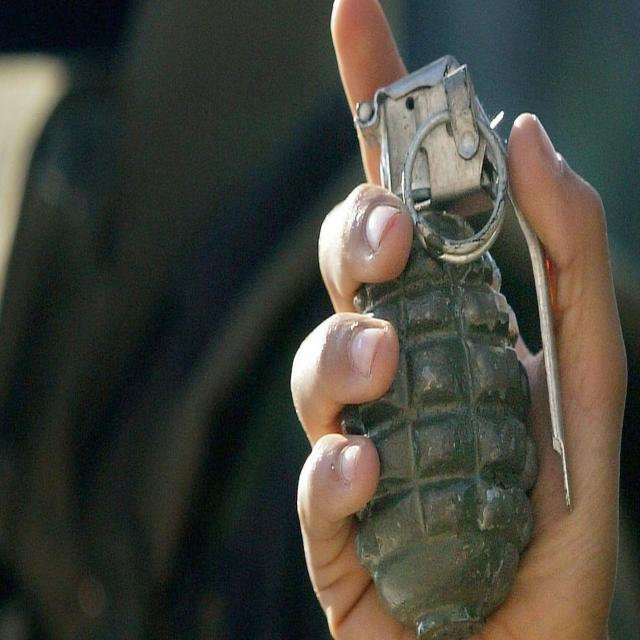grenade: (338, 56, 574, 640)
